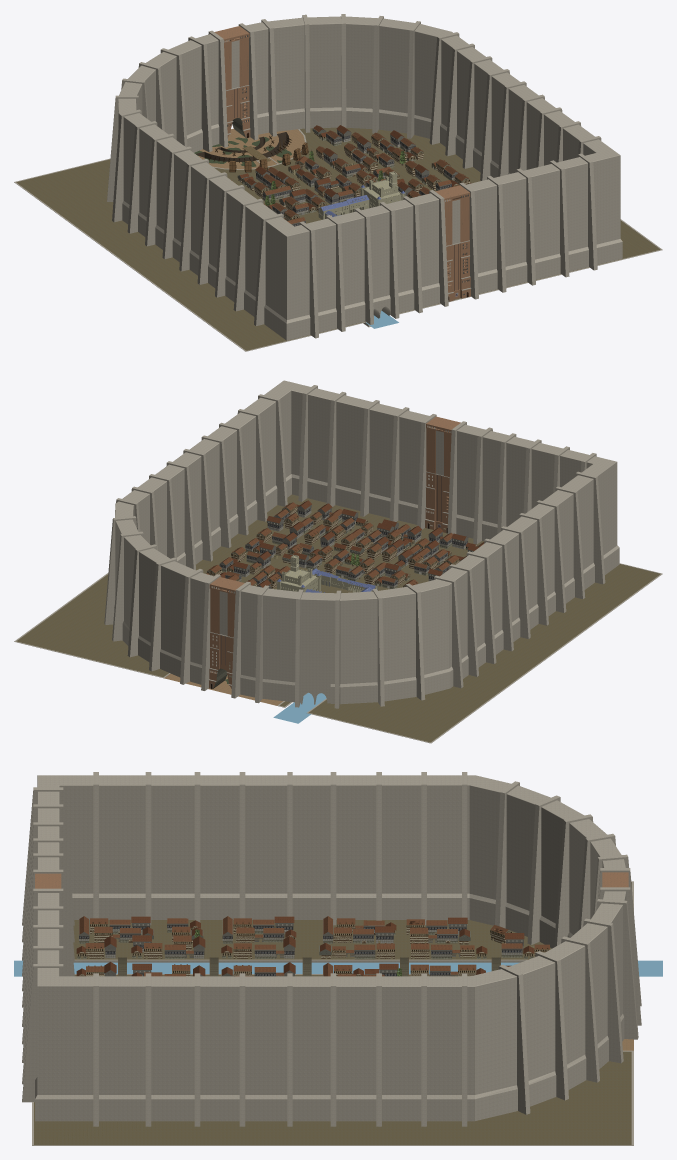
File: shinganshina.glb
3 views of the same model, one above another, from view 1: azimuth 30°, elevation 25°; view 2: azimuth 150°, elevation 25°; view 3: azimuth 270°, elevation 25° (orthographic). The views are drawn at different scales.
Visible parts, largest first — view 1: wall1, wall7, wall2, Medium_House_1, wall12, Midle_House_1, cuartel1, wall14, Medium_House_2, Medium_House_3, Big_House_1, Midle_House_4 (+5 smaller); view 2: wall1, wall7, wall2, Medium_House_1, Midle_House_1, Big_House_1, Medium_House_2, cuartel1, wall14, Medium_House_3, Big_House_3, Midle_House_4 (+4 smaller); view 3: wall1, wall7, Medium_House_1, WaterProDaytime, Midle_House_1, Medium_House_2, wall14, Big_House_1, Medium_House_3, Midle_House_4, Midle_House_6, Big_House_3 (+5 smaller).
Boxes of the visible parts, bbox=[...] form: wall1: bbox=[107, 14, 622, 340]; wall7: bbox=[16, 127, 660, 350]; wall2: bbox=[214, 26, 470, 301]; Medium_House_1: bbox=[200, 132, 469, 219]; wall12: bbox=[198, 128, 304, 169]; Midle_House_1: bbox=[263, 138, 471, 223]; cuartel1: bbox=[318, 171, 405, 219]; wall14: bbox=[14, 129, 662, 351]; Medium_House_2: bbox=[254, 137, 469, 220]; Medium_House_3: bbox=[254, 134, 469, 219]; Big_House_1: bbox=[255, 125, 459, 206]; Midle_House_4: bbox=[262, 142, 456, 226]; wall1: bbox=[104, 380, 619, 708]; wall7: bbox=[16, 494, 660, 742]; wall2: bbox=[209, 416, 460, 688]; Medium_House_1: bbox=[207, 502, 484, 585]; Midle_House_1: bbox=[206, 509, 452, 582]; Big_House_1: bbox=[233, 500, 478, 587]; Medium_House_2: bbox=[209, 508, 459, 588]; cuartel1: bbox=[276, 555, 377, 592]; wall14: bbox=[14, 563, 662, 743]; Medium_House_3: bbox=[207, 506, 459, 587]; Big_House_3: bbox=[233, 505, 473, 587]; Midle_House_4: bbox=[219, 513, 452, 585]; wall1: bbox=[22, 772, 641, 1126]; wall7: bbox=[34, 882, 631, 1144]; Medium_House_1: bbox=[85, 918, 549, 976]; WaterProDaytime: bbox=[14, 960, 662, 976]; Midle_House_1: bbox=[79, 916, 522, 976]; Medium_House_2: bbox=[85, 926, 545, 976]; wall14: bbox=[32, 881, 633, 1145]; Big_House_1: bbox=[104, 916, 524, 976]; Medium_House_3: bbox=[85, 924, 549, 974]; Midle_House_4: bbox=[79, 925, 522, 976]; Midle_House_6: bbox=[79, 919, 522, 975]; Big_House_3: bbox=[105, 923, 523, 976].
Bounding box in the file's own units: 197 × 55 × 205.
61 materials, 59 textured.
